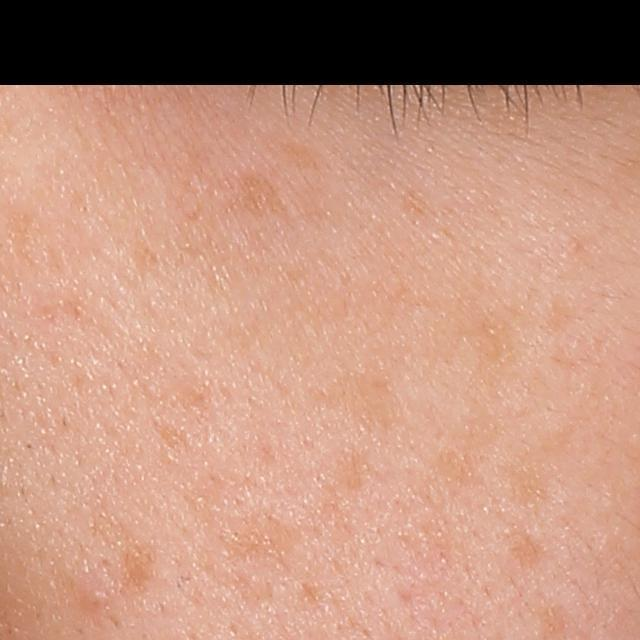comedo: (81, 584, 107, 612)
melasma: (213, 444, 373, 570), (430, 289, 521, 373), (310, 364, 408, 439), (238, 168, 291, 220), (437, 444, 488, 492), (267, 140, 328, 179), (118, 541, 157, 596), (399, 184, 431, 221)
